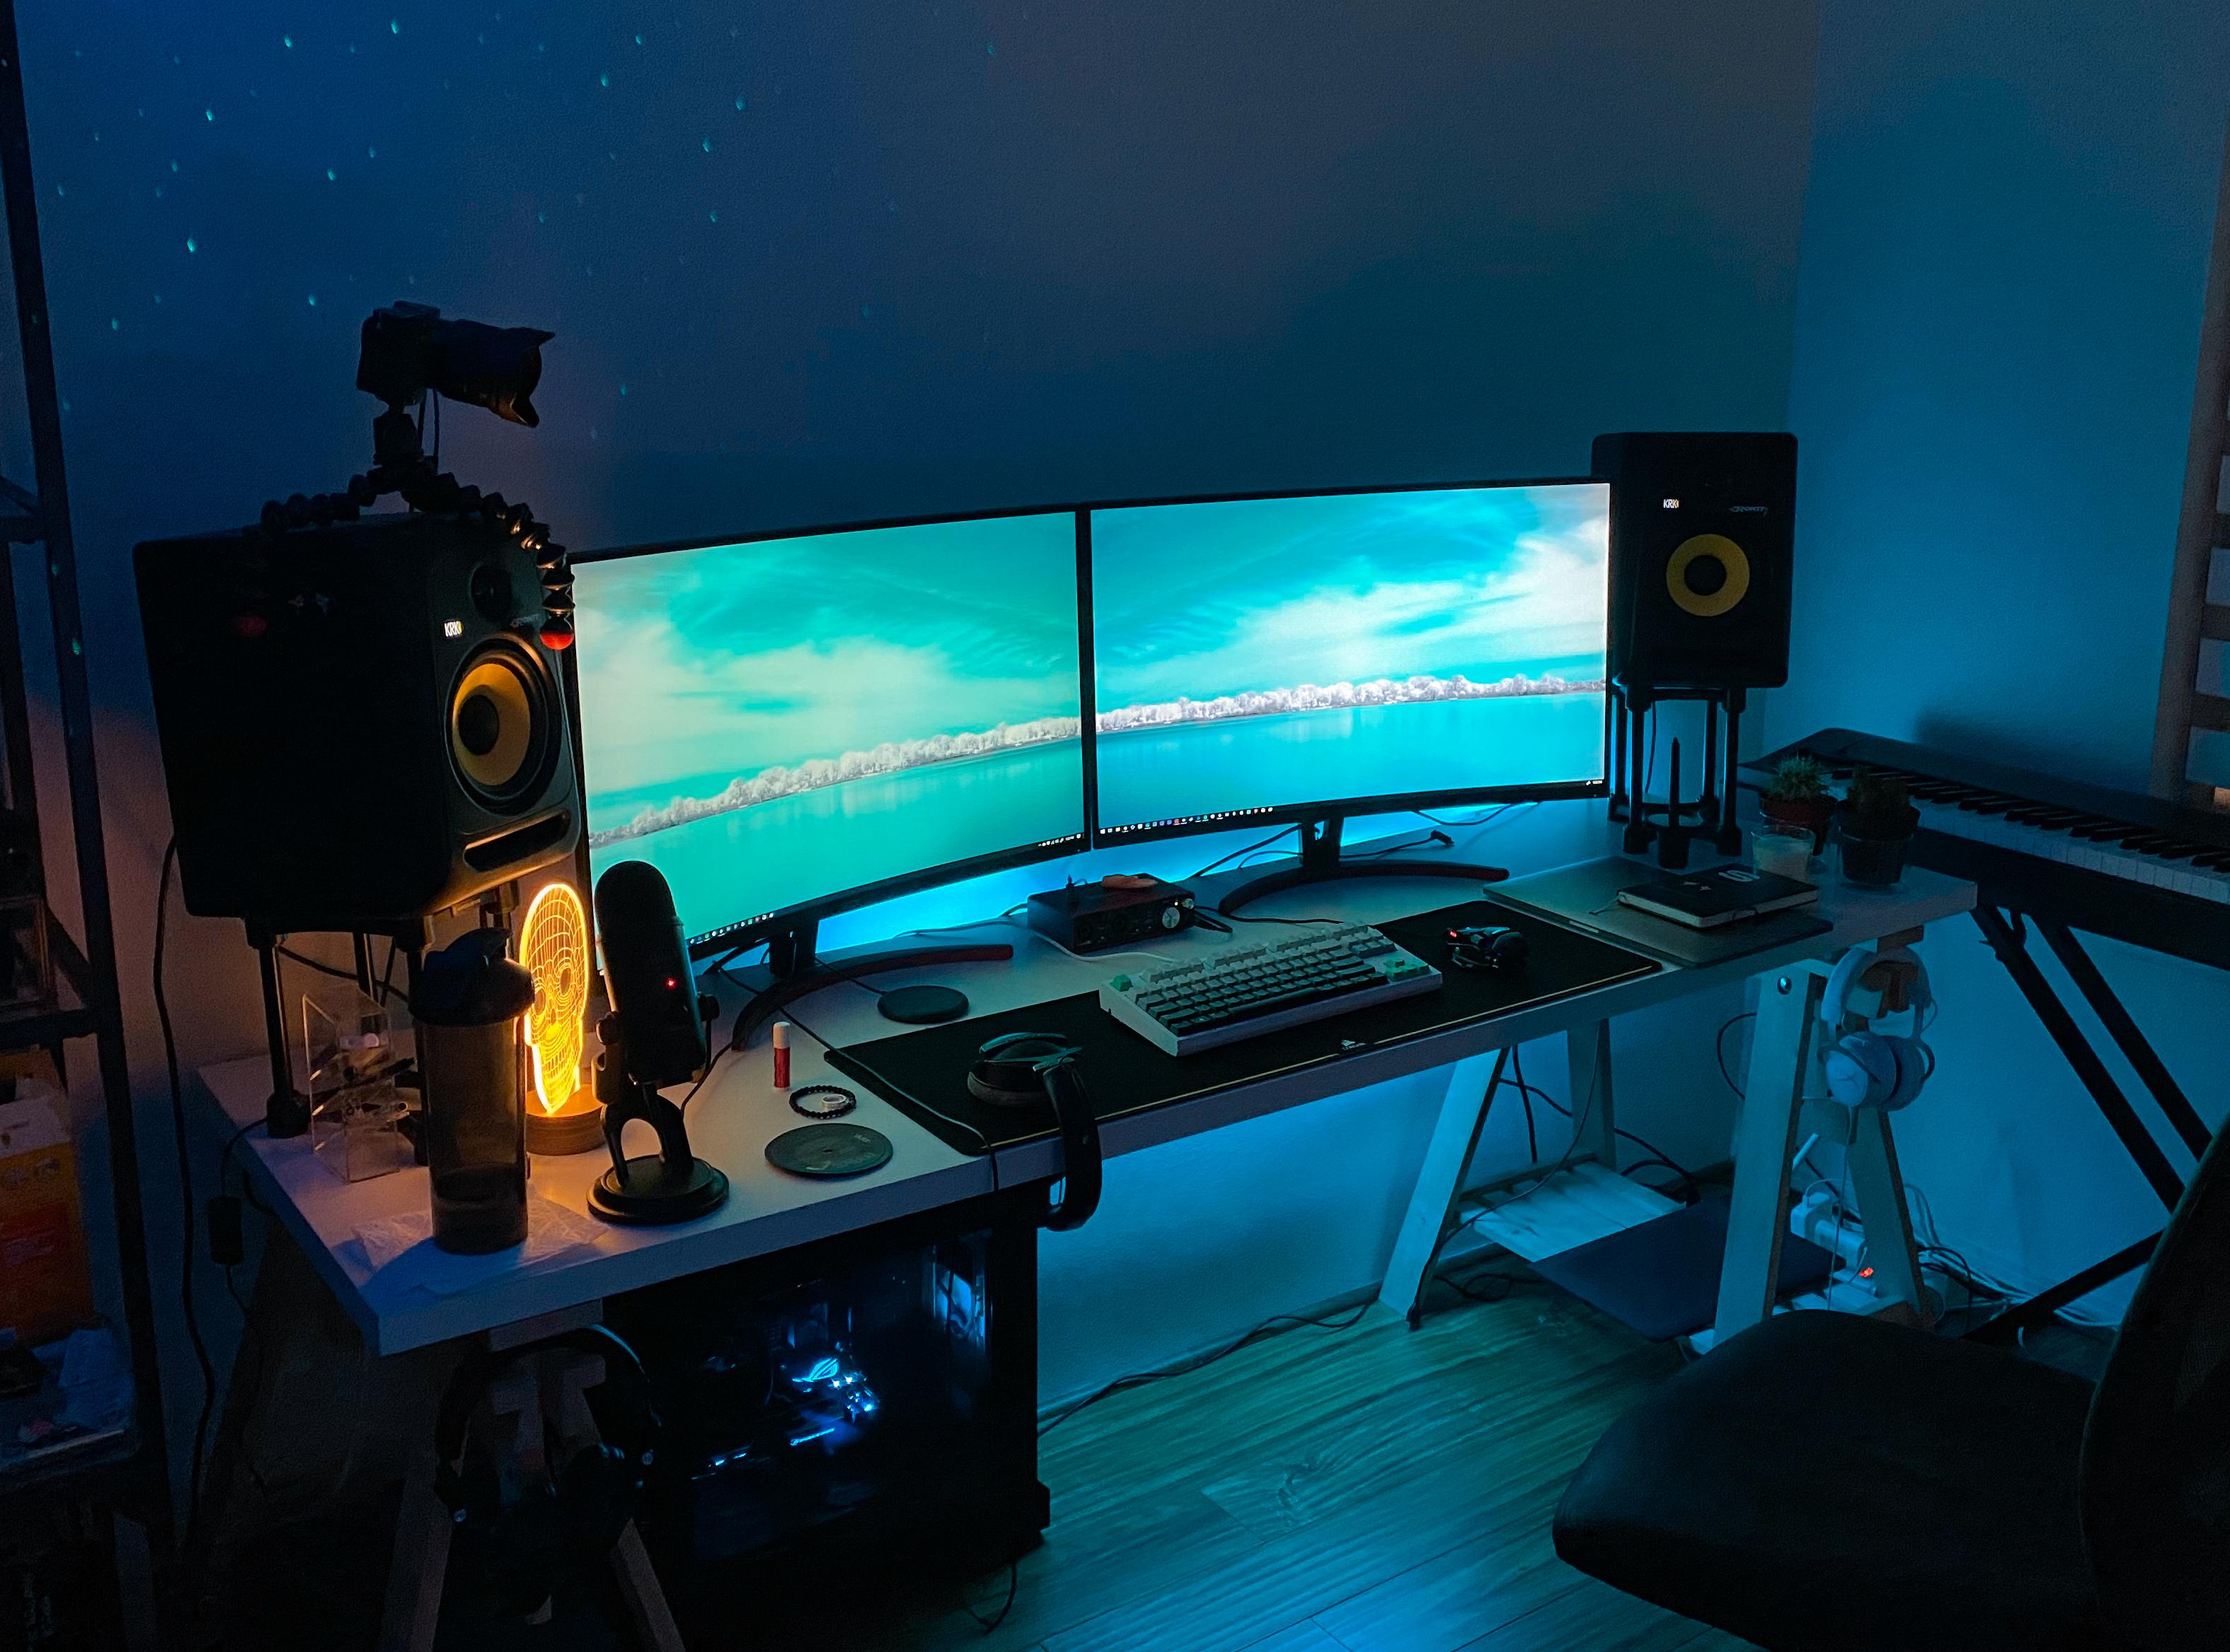Cellphone Charger (Wireless): (843, 961, 998, 1029)
Chair (Generic): (1551, 1072, 2230, 1647)
Decoration (Plant): (1751, 767, 1916, 888)
Desk (Generic): (842, 1178, 944, 1255)
Desktop (Windows): (640, 1244, 1033, 1619)
External Microphone (Generic): (578, 861, 736, 1239)
External Sound Card (Pre-amplifier): (1024, 875, 1192, 944)
External Speakers (Generic): (130, 522, 567, 921), (1590, 420, 1810, 710)
Headphones: (377, 1374, 625, 1621), (981, 1034, 1112, 1249), (1829, 960, 1952, 1126)
Keyboard (Generic): (1095, 916, 1427, 1032)
Lamp (Desk): (507, 897, 595, 1088)
Laptop (OSX): (1477, 850, 1834, 954)
Monitor (Landscape): (567, 503, 1104, 939), (1083, 503, 1602, 795)
Mouse (Generic): (1435, 906, 1557, 1000)
Mousepad (Generic): (823, 899, 1666, 1149)
Musical Instrument (Keyboard/Piano): (1928, 739, 2178, 923)
Notebook: (1617, 862, 1826, 927)
Power Strip: (1777, 1183, 1945, 1305)
Water Bottle: (401, 947, 541, 1274)
